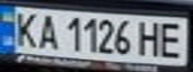1: (60, 14, 84, 52), (78, 15, 100, 53)
2: (97, 16, 118, 55)
6: (112, 17, 139, 56)
A: (33, 11, 60, 51)
E: (157, 19, 190, 60)
H: (136, 18, 166, 57)
K: (9, 9, 42, 48)
